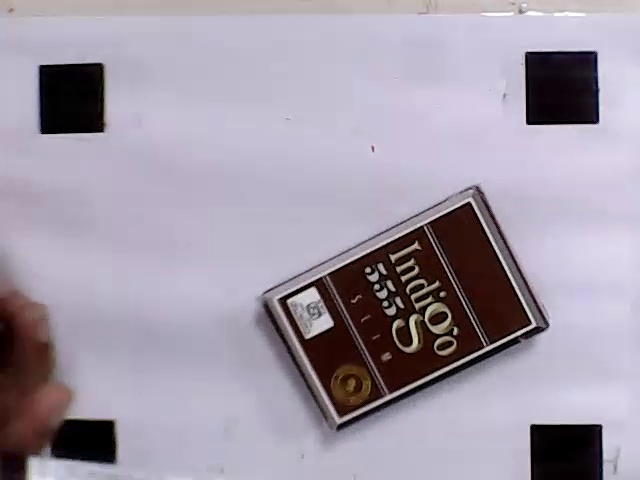BEX: (275, 199, 534, 420)
